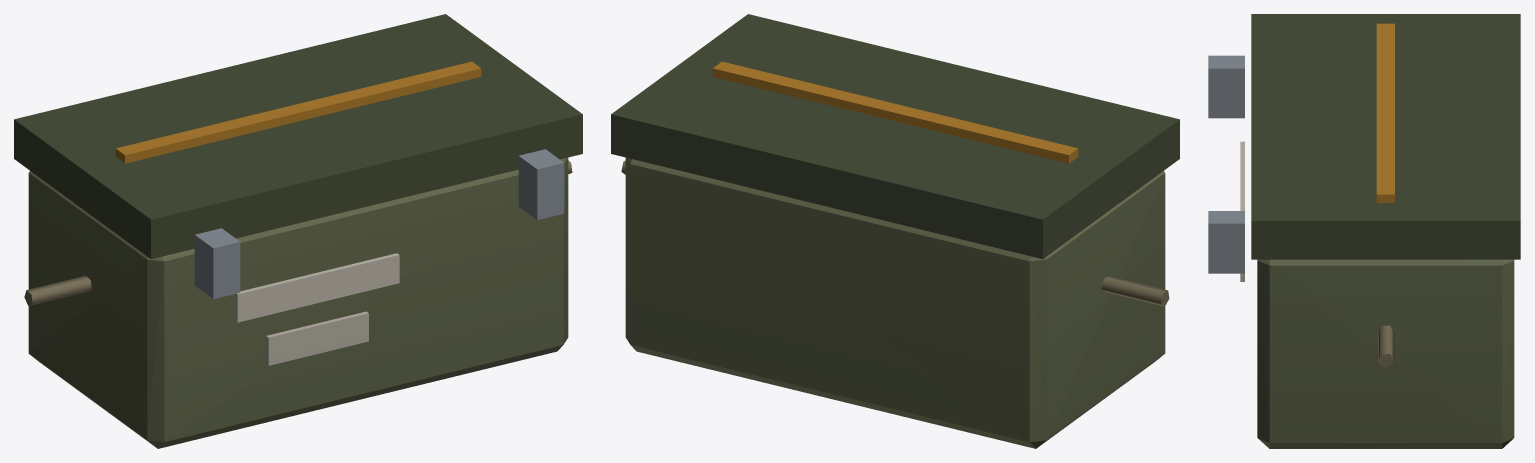
The model's file is ammo-crate.glb.
3 renders of one model, left to right at view 1: azimuth 30°, elevation 25°; view 2: azimuth 150°, elevation 25°; view 3: azimuth 270°, elevation 25°, orthographic.
Parts seen in each view (by area): view 1: ammo_crate; view 2: ammo_crate; view 3: ammo_crate.
Boxes of the visible parts, left/top/right/bottom form: ammo_crate: left=14, top=14, right=582, bottom=448; ammo_crate: left=611, top=14, right=1179, bottom=448; ammo_crate: left=1208, top=14, right=1520, bottom=448.
Bounding box in the file's own units: 1 × 0.44 × 0.51.
